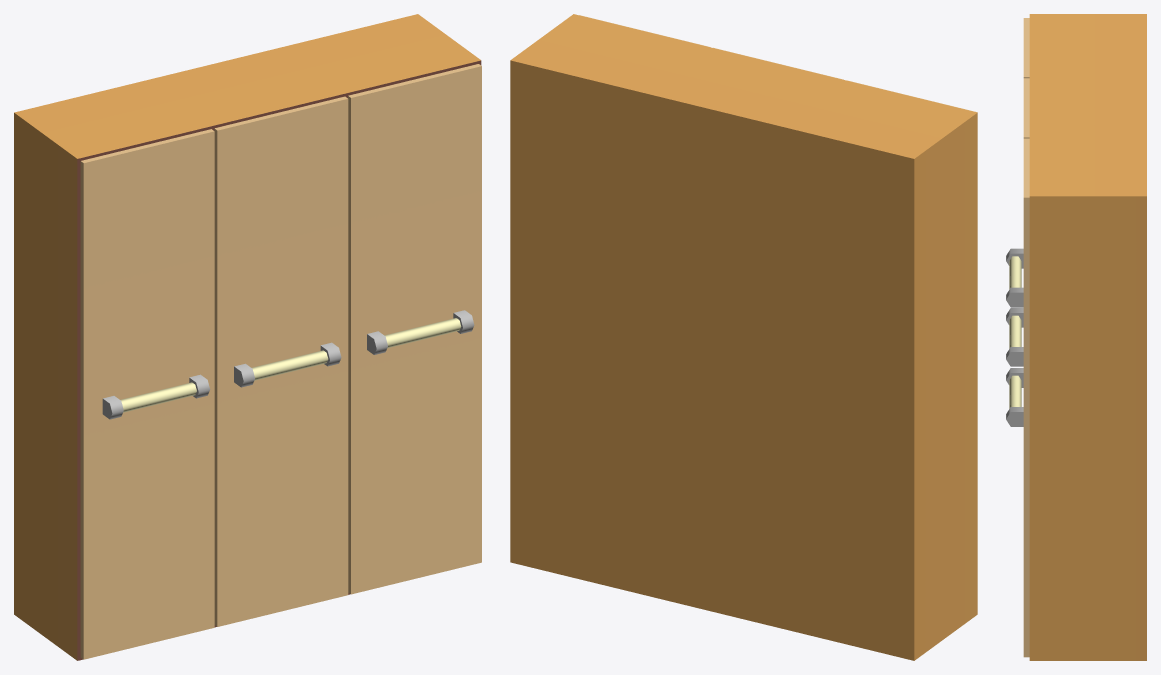
File: closet_021.glb
3 views of the same model, side by side, from view 1: azimuth 30°, elevation 25°; view 2: azimuth 150°, elevation 25°; view 3: azimuth 270°, elevation 25° (orthographic). The views are drawn at different scales.
Visible parts, largest first — view 1: closet_021; view 2: closet_021; view 3: closet_021.
Boxes of the visible parts, x1,y1,x2,y2 form: closet_021: [14, 14, 481, 660]; closet_021: [510, 14, 977, 660]; closet_021: [1006, 14, 1146, 660].
Size of the model in its own units: 2.1 by 2.49 by 0.6854.
1 material, 1 textured.
